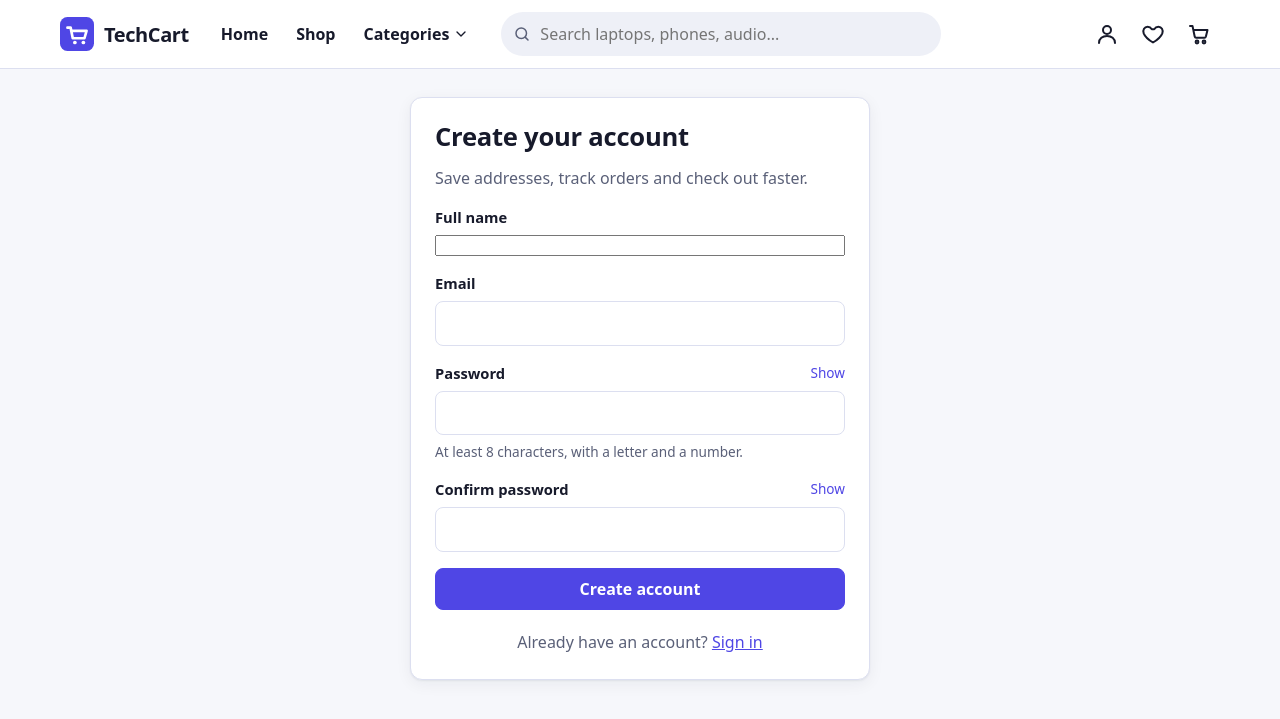
it: header account link › links to the account page when signed in
Type "Ada Lovelace" into the field labelled "Full name" at (640, 246), box [435,235,845,256]
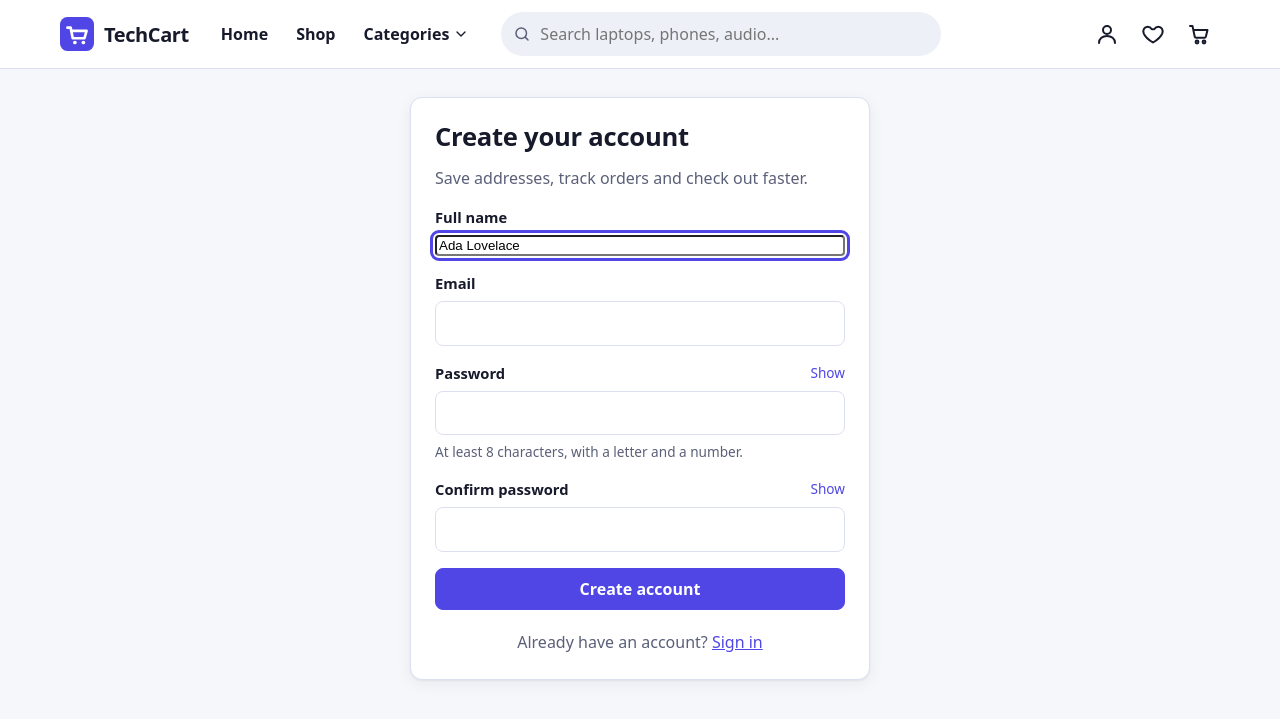
Type "ada@example.com" into the field labelled "Email" at (640, 323), box [435,301,845,346]
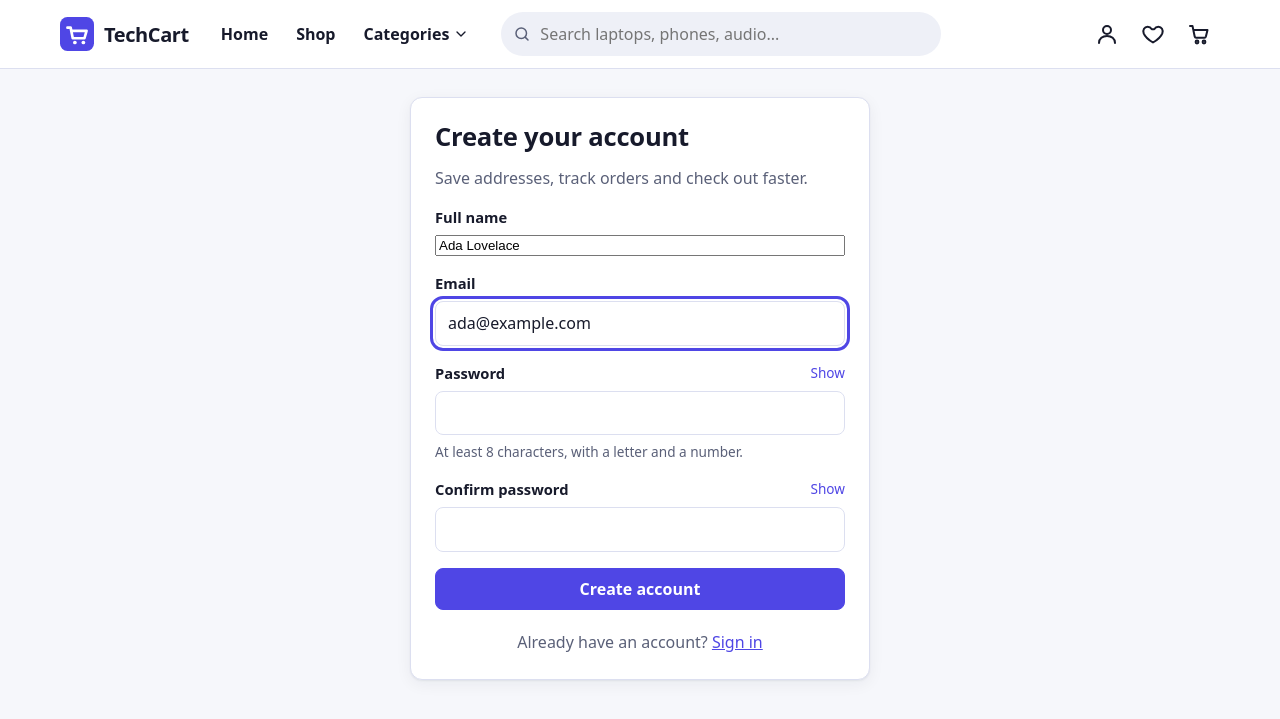
Type "correct8horse" into the password field labelled "Password" at (640, 413), box [435,390,845,435]
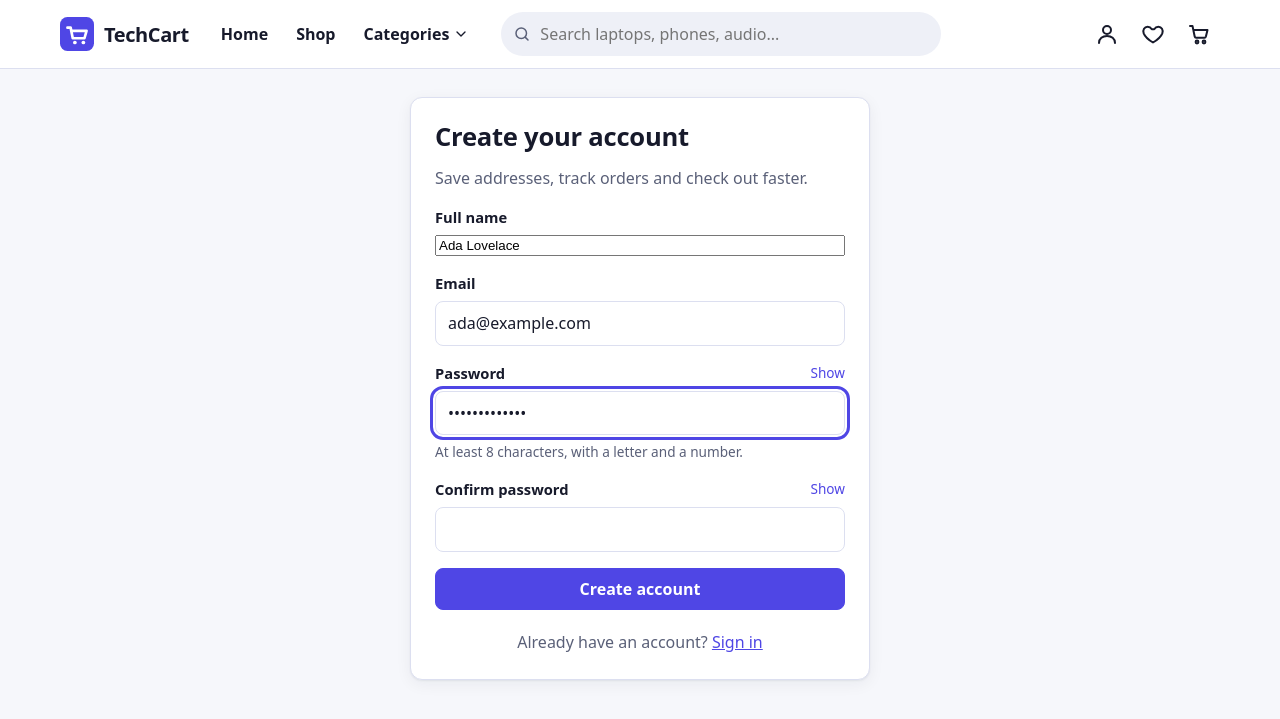
Type "correct8horse" into the password field labelled "Confirm password" at (640, 530), box [435,507,845,552]
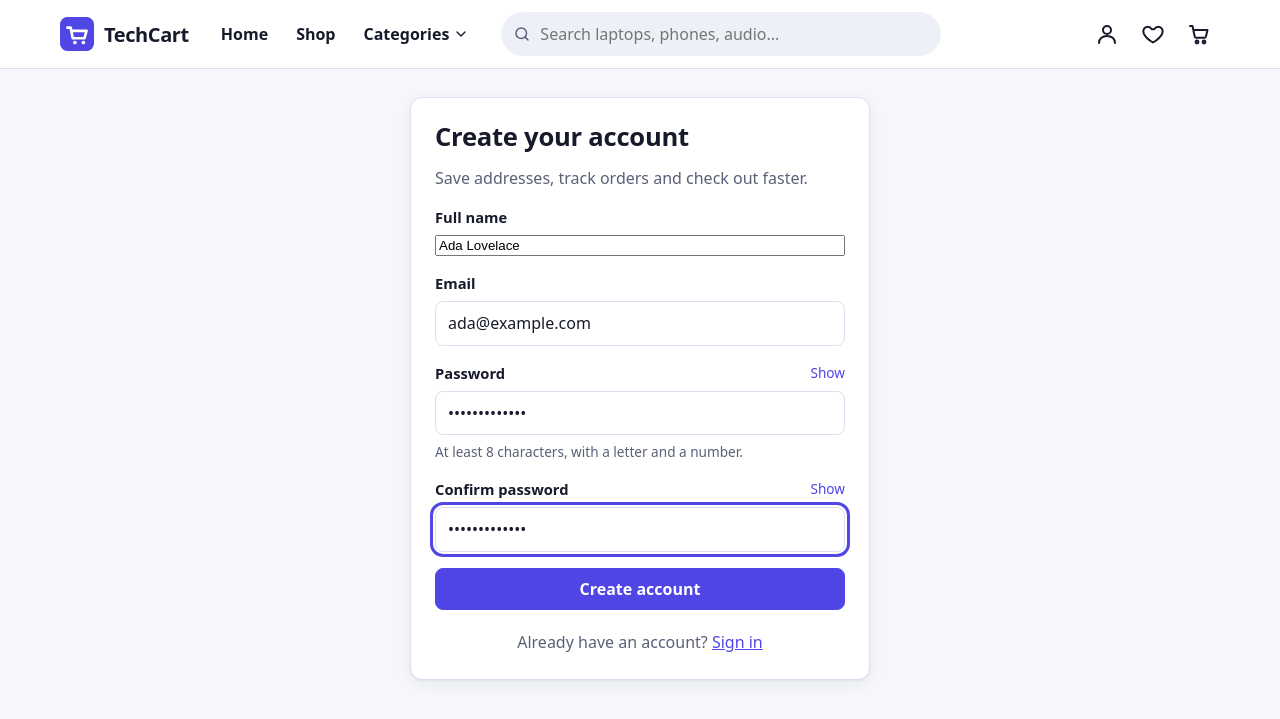
Click the button "Create account" at (640, 589), box [435,568,845,610]
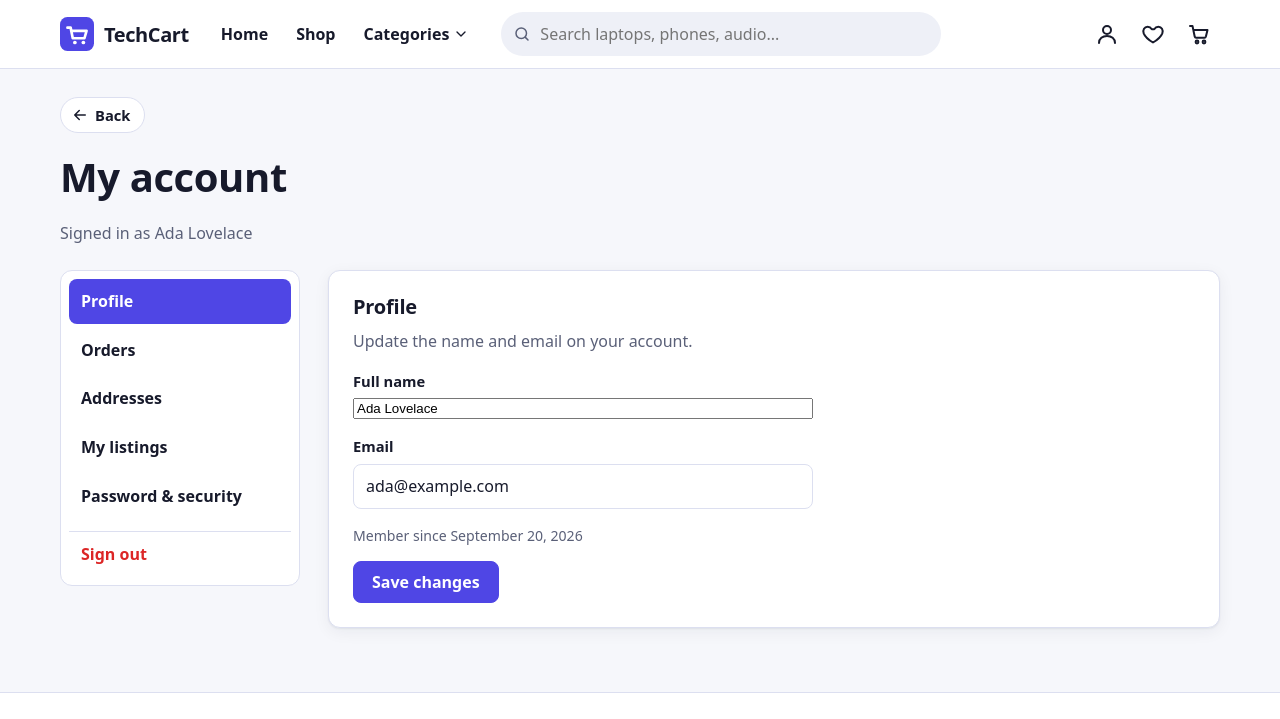
Check: the heading "My account" is shown, box [60,149,287,204]
